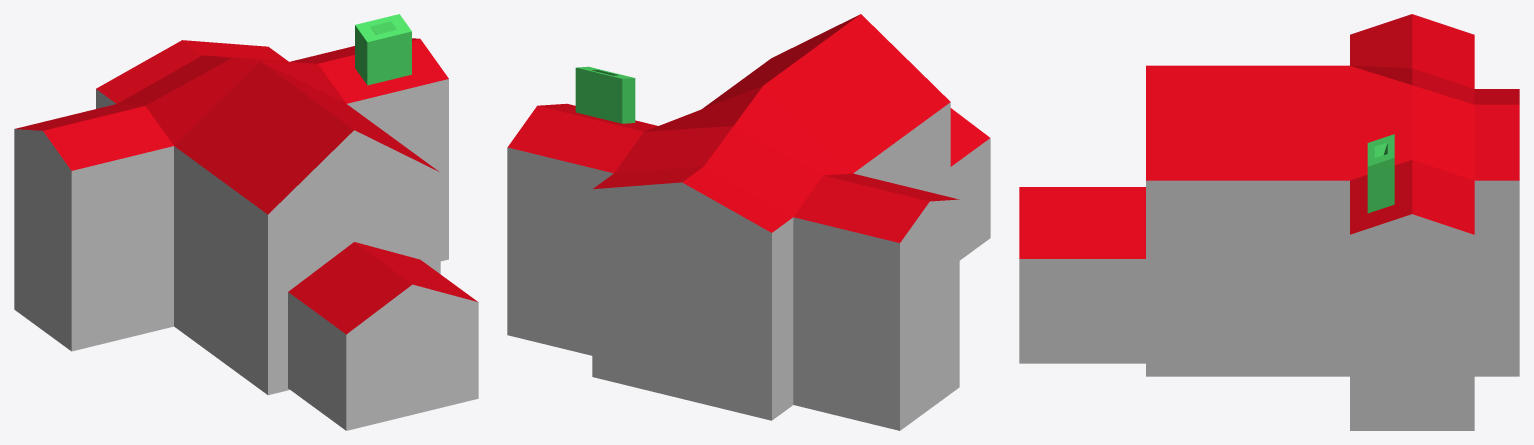
Rendered from huntcabin.fbx.
The picture shows the model from 3 angles, left to right: view 1: azimuth 30°, elevation 25°; view 2: azimuth 150°, elevation 25°; view 3: azimuth 270°, elevation 25°; orthographic projection. The views are drawn at different scales.
Parts seen in each view (by area): view 1: Cube; view 2: Cube; view 3: Cube.
Part boxes in pixels (<box>): Cube: <box>14,14,478,430</box>; Cube: <box>507,14,990,430</box>; Cube: <box>1019,14,1519,430</box>.
Bounding box in the file's own units: 438 × 270 × 462.
